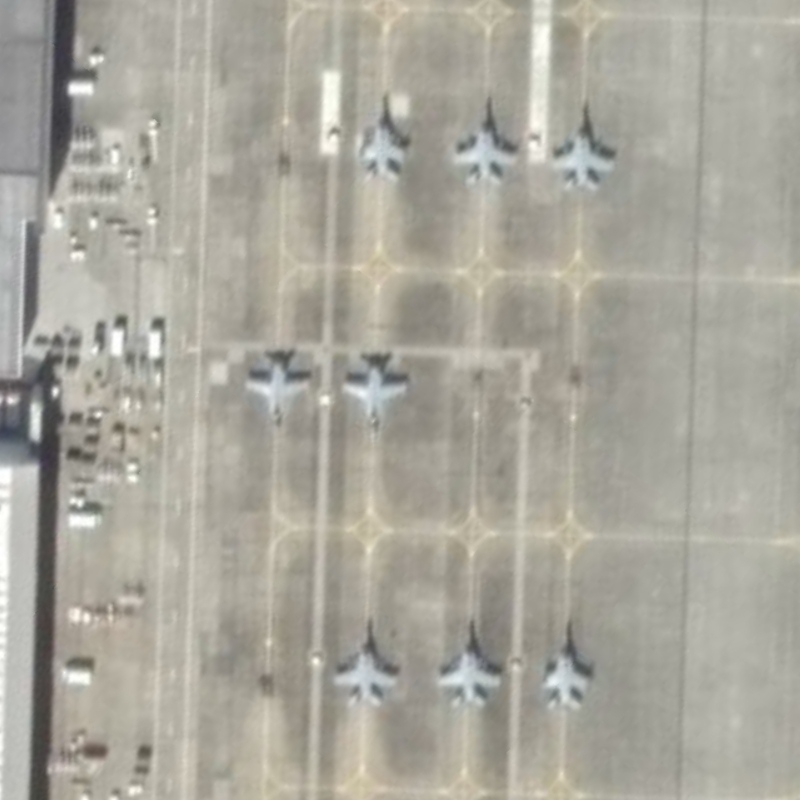A16: (237, 339, 318, 452), (335, 342, 415, 455), (429, 613, 510, 716), (542, 97, 621, 200), (330, 607, 403, 716), (446, 91, 524, 193), (348, 84, 417, 192), (532, 616, 600, 712)
